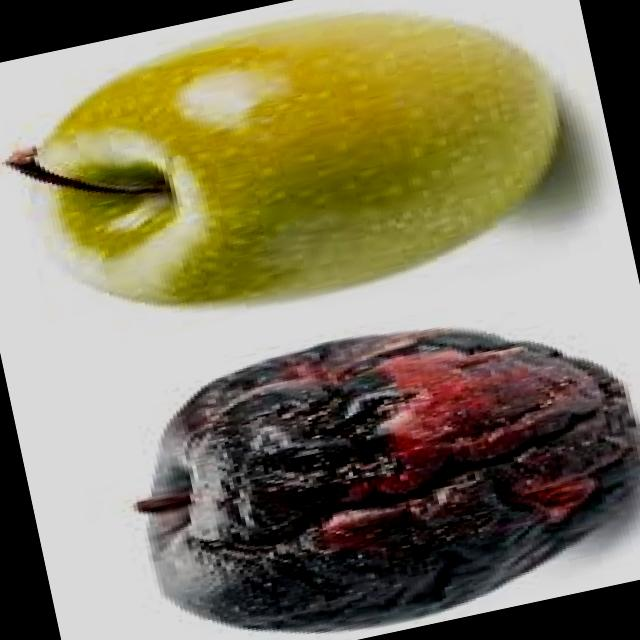Green Juicy Apple: (0, 0, 589, 351)
Rotten Apple: (111, 281, 640, 640)
